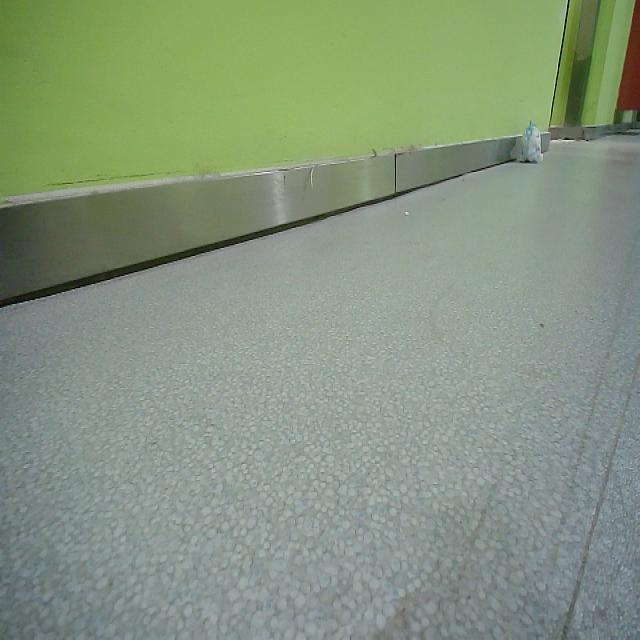xiaoba: (527, 117, 544, 170)
